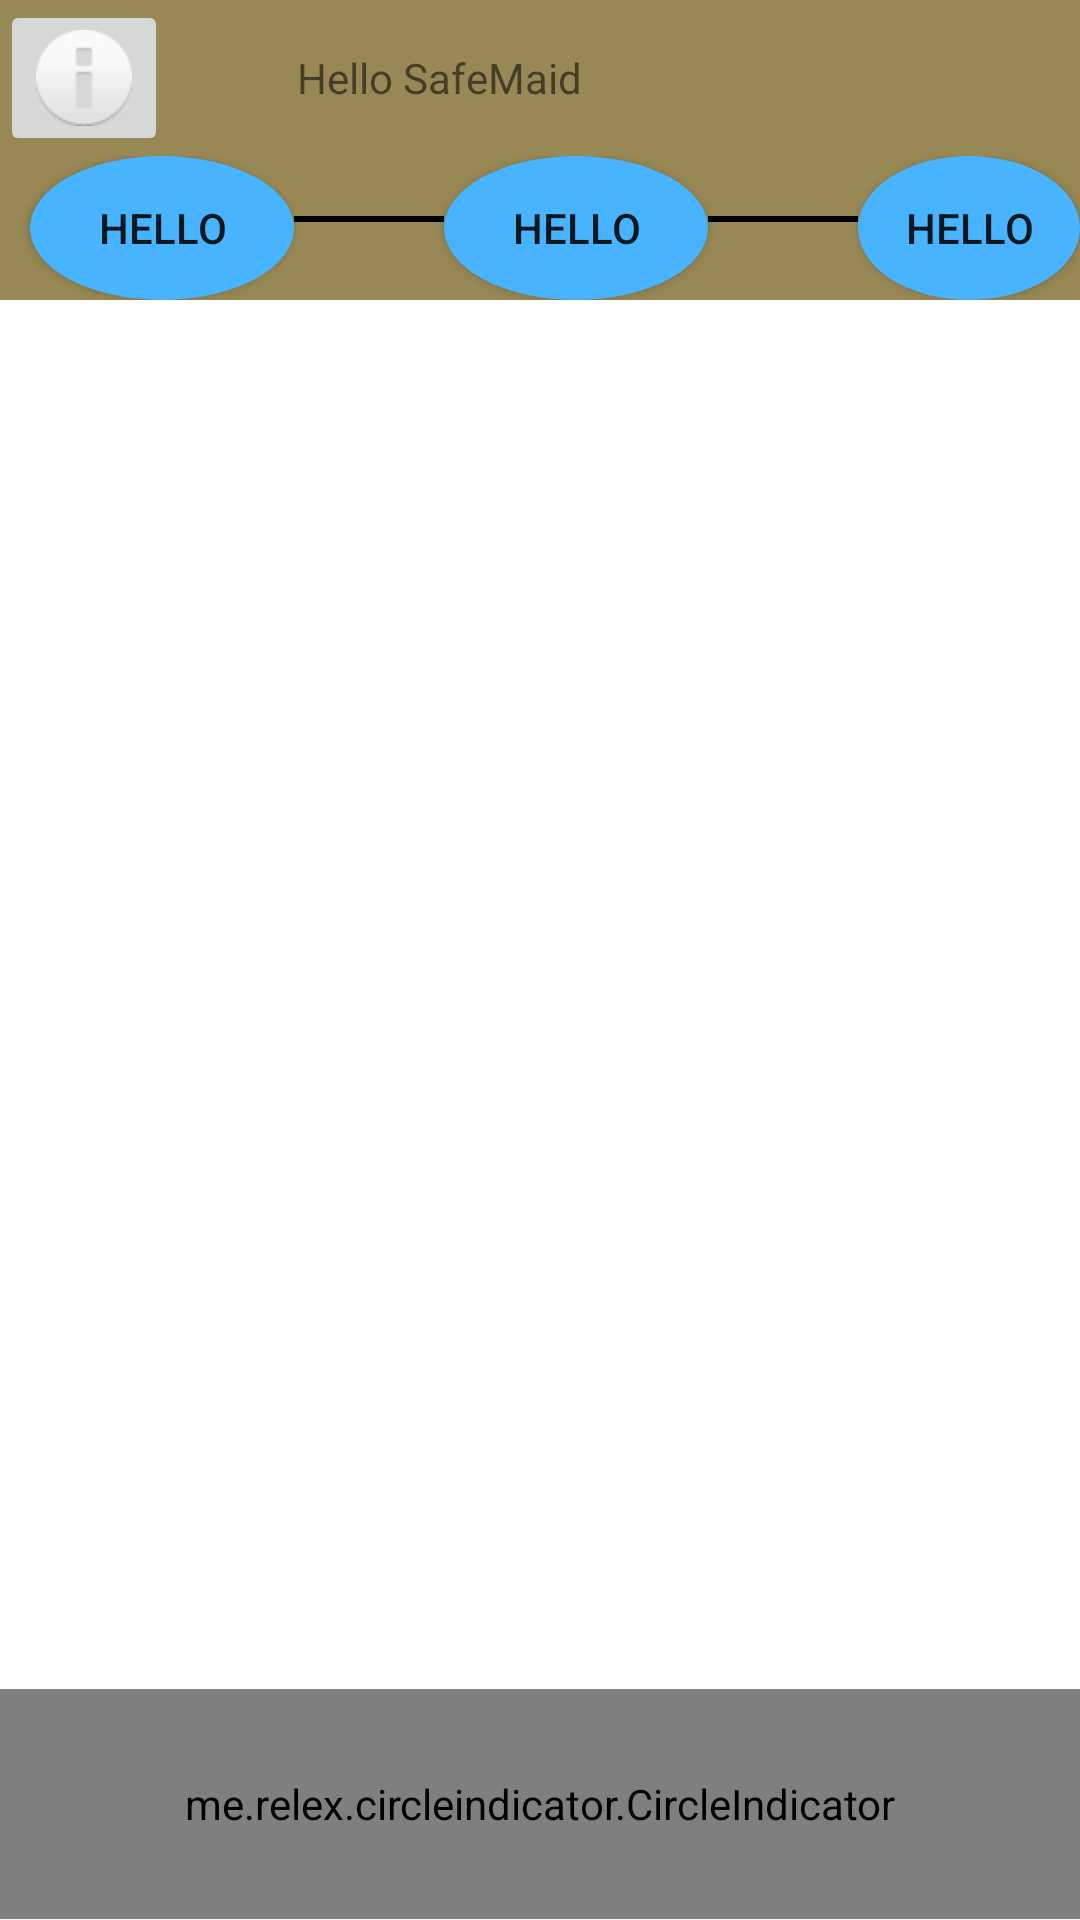

Screen size 1080×1920. Icon name, then its center in pixels as point (x, y):
info: point (84, 78)
